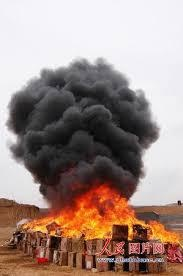fire: (22, 183, 176, 240)
